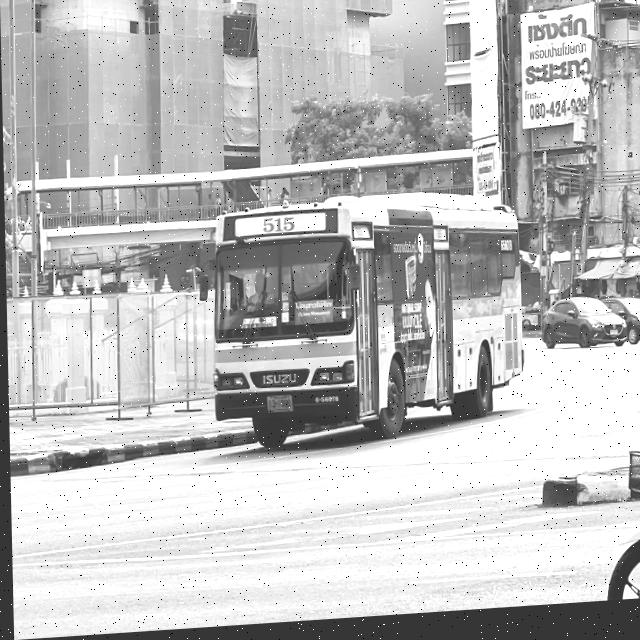BMTA-bus: (210, 200, 524, 456)
Bus Line Number: (258, 218, 298, 239)
Bus Side Number: (310, 396, 339, 409)
Destination Sign: (293, 303, 332, 329)
